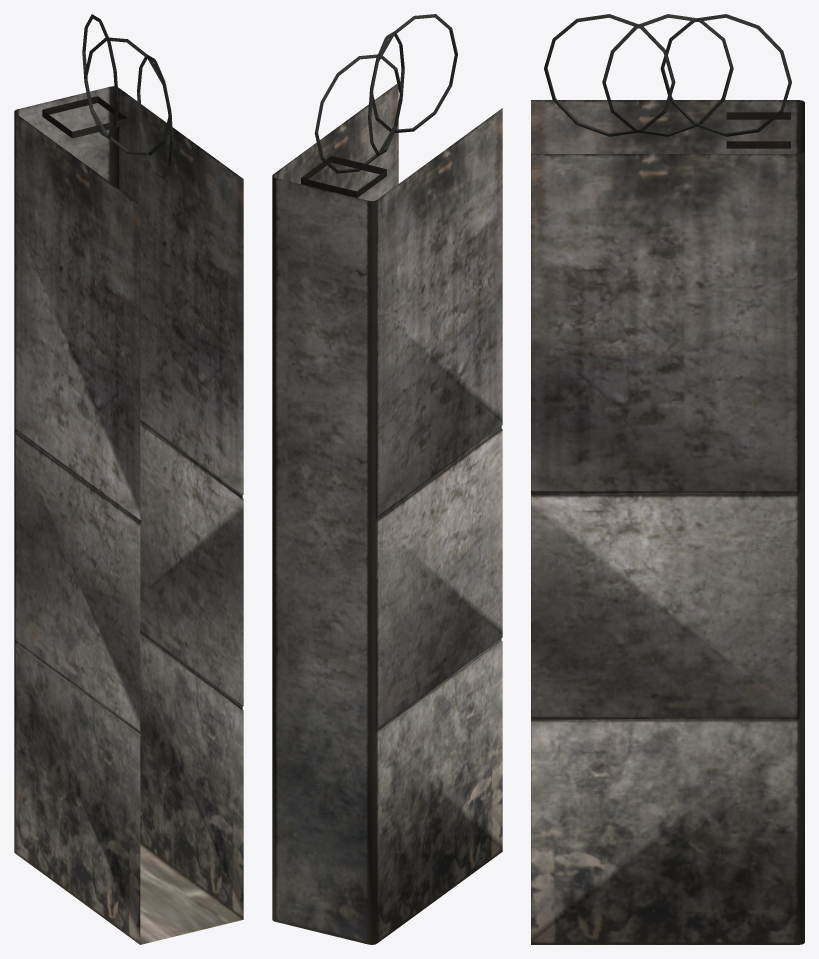
Rendered from brik-post.glb.
3 views of the same model, side by side, from view 1: azimuth 30°, elevation 25°; view 2: azimuth 150°, elevation 25°; view 3: azimuth 270°, elevation 25° (orthographic). The views are drawn at different scales.
Parts seen in each view (by area): view 1: hull; view 2: hull; view 3: hull.
Boxes of the visible parts, bbox=[...] form: hull: bbox=[14, 14, 243, 944]; hull: bbox=[272, 14, 502, 944]; hull: bbox=[531, 14, 804, 944].
Size of the model in its own units: 0.5839 by 4.56 by 1.25.
1 material, 1 textured.
